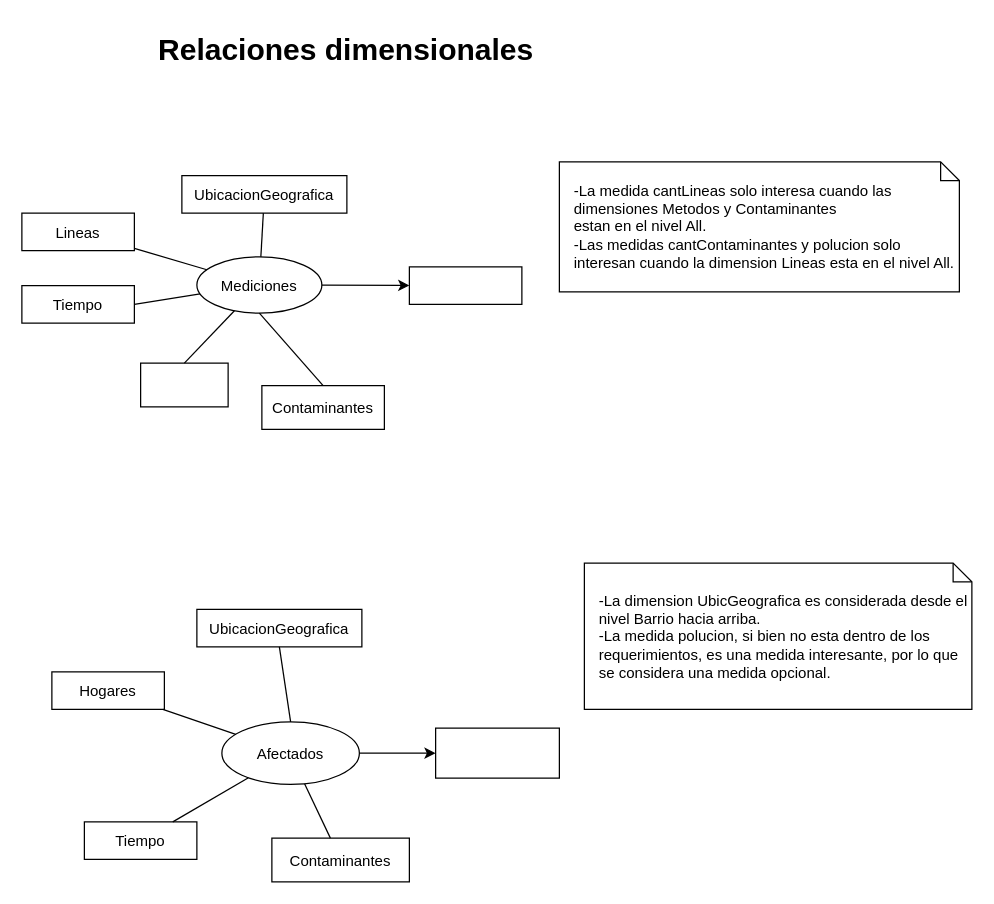
This 994x904 diagram has some shape labels left out. Here are the shapes that lost their labels. From the top down, the box of each, then its label:
(408, 266, 522, 304): M_Mediciones
(139, 362, 228, 407): Metodos
(434, 727, 559, 778): M_Afectados
